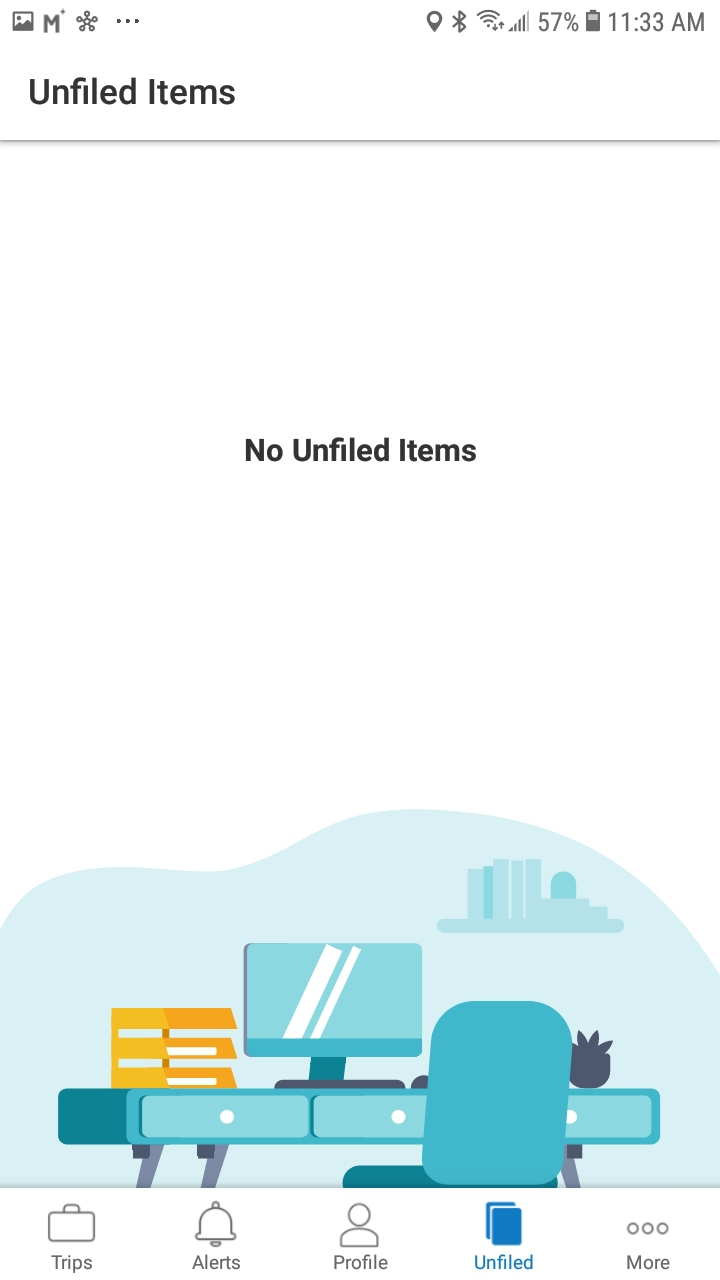Icon: (195, 1200, 238, 1247), (49, 1203, 97, 1243), (340, 1202, 380, 1248), (486, 1201, 523, 1246), (627, 1221, 670, 1235)
Image: (1, 810, 720, 1188)
Text: (246, 437, 477, 463), (30, 77, 236, 106), (474, 1253, 534, 1270), (334, 1254, 389, 1270), (52, 1254, 94, 1274), (193, 1254, 241, 1270), (626, 1254, 670, 1270)
UpperTaskBar: (1, 1, 720, 34)
